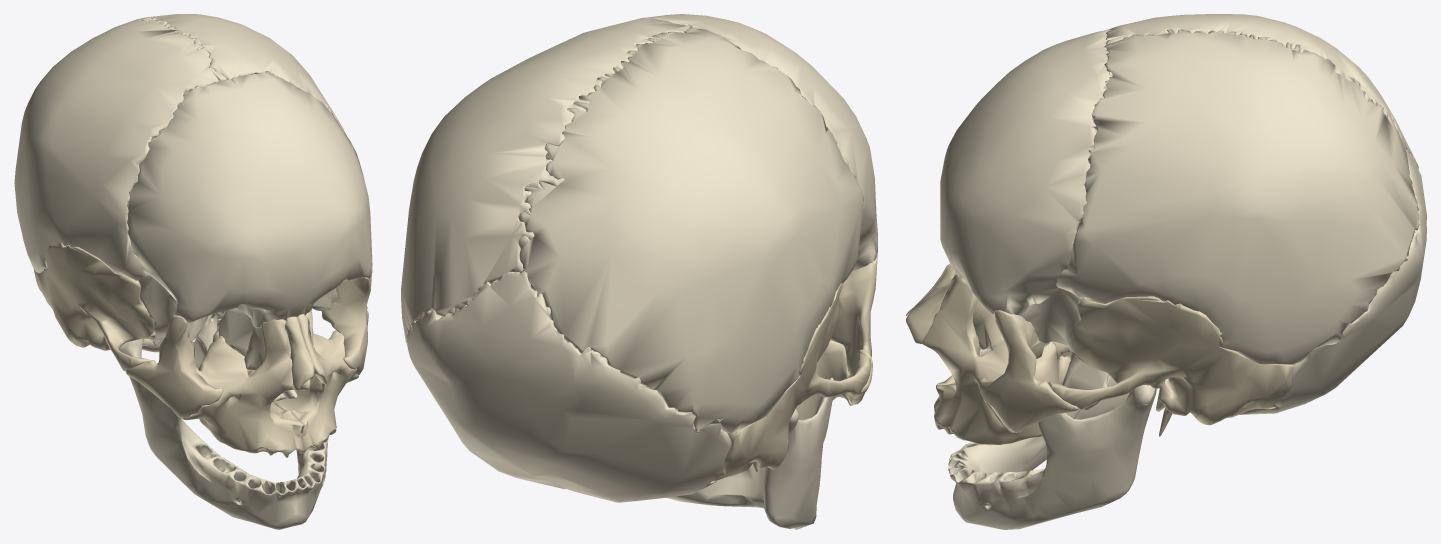
Rendered from cranio.glb.
The picture shows the model from 3 angles, left to right: view 1: azimuth 30°, elevation 25°; view 2: azimuth 150°, elevation 25°; view 3: azimuth 270°, elevation 25°; orthographic projection. The views are drawn at different scales.
Visible parts, largest first — view 1: Frontal bone, Parietal bone.r, Mandible, Maxilla.r, Temporal bone.r, Parietal bone.l, Zygomatic bone.r, Maxilla.l, Sphenoid bone, Zygomatic bone.l, Nasal bone.r, Ethmoid bone (+2 smaller); view 2: Parietal bone.r, Occipital bone, Parietal bone.l, Frontal bone, Mandible, Temporal bone.r, Zygomatic bone.r, Maxilla.r; view 3: Parietal bone.l, Frontal bone, Temporal bone.l, Mandible, Maxilla.l, Occipital bone, Parietal bone.r, Zygomatic bone.l, Sphenoid bone, Nasal bone.l, Lacrimal bone.l.
Boxes of the visible parts, x1,y1,x2,y2 form: Frontal bone: (127,72,372,328); Parietal bone.r: (14,17,226,280); Mandible: (119,308,328,529); Maxilla.r: (182,319,303,457); Temporal bone.r: (33,243,155,370); Parietal bone.l: (140,14,359,162); Zygomatic bone.r: (125,315,222,418); Maxilla.l: (273,310,358,452); Sphenoid bone: (138,272,337,369); Zygomatic bone.l: (321,274,371,375); Nasal bone.r: (285,316,315,390); Ethmoid bone: (218,308,253,356); Parietal bone.r: (518,27,863,433); Occipital bone: (406,270,731,502); Parietal bone.l: (401,17,690,344); Frontal bone: (647,14,877,271); Mandible: (666,377,833,529); Temporal bone.r: (713,281,871,481); Zygomatic bone.r: (830,255,877,404); Maxilla.r: (797,340,853,420); Parietal bone.l: (1056,29,1419,364); Frontal bone: (940,29,1112,315); Temporal bone.l: (1048,296,1294,436); Mandible: (948,375,1156,529); Maxilla.l: (922,274,1059,445); Occipital bone: (1239,149,1426,414); Parietal bone.r: (1097,14,1418,168); Zygomatic bone.l: (979,310,1078,432); Sphenoid bone: (1021,288,1108,410); Nasal bone.l: (906,266,955,344); Lacrimal bone.l: (973,300,1004,350).
Size of the model in its own units: 0.1487 by 0.2091 by 0.2036.
